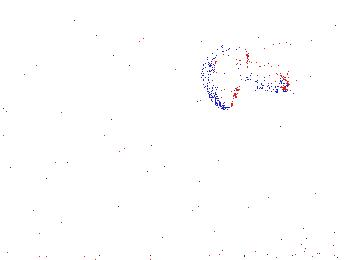flame jellyfish: (199, 46, 290, 112), (148, 152, 209, 225), (4, 166, 72, 219)
